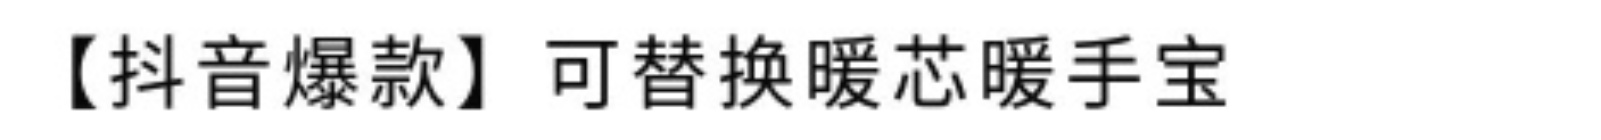TextView: (1, 1, 1600, 139)
